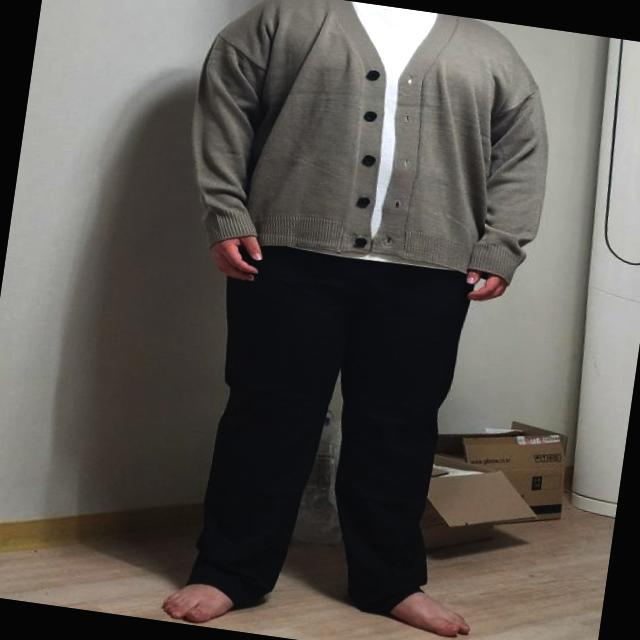cardigan: (170, 0, 570, 296)
cottonpants: (174, 231, 482, 632)
